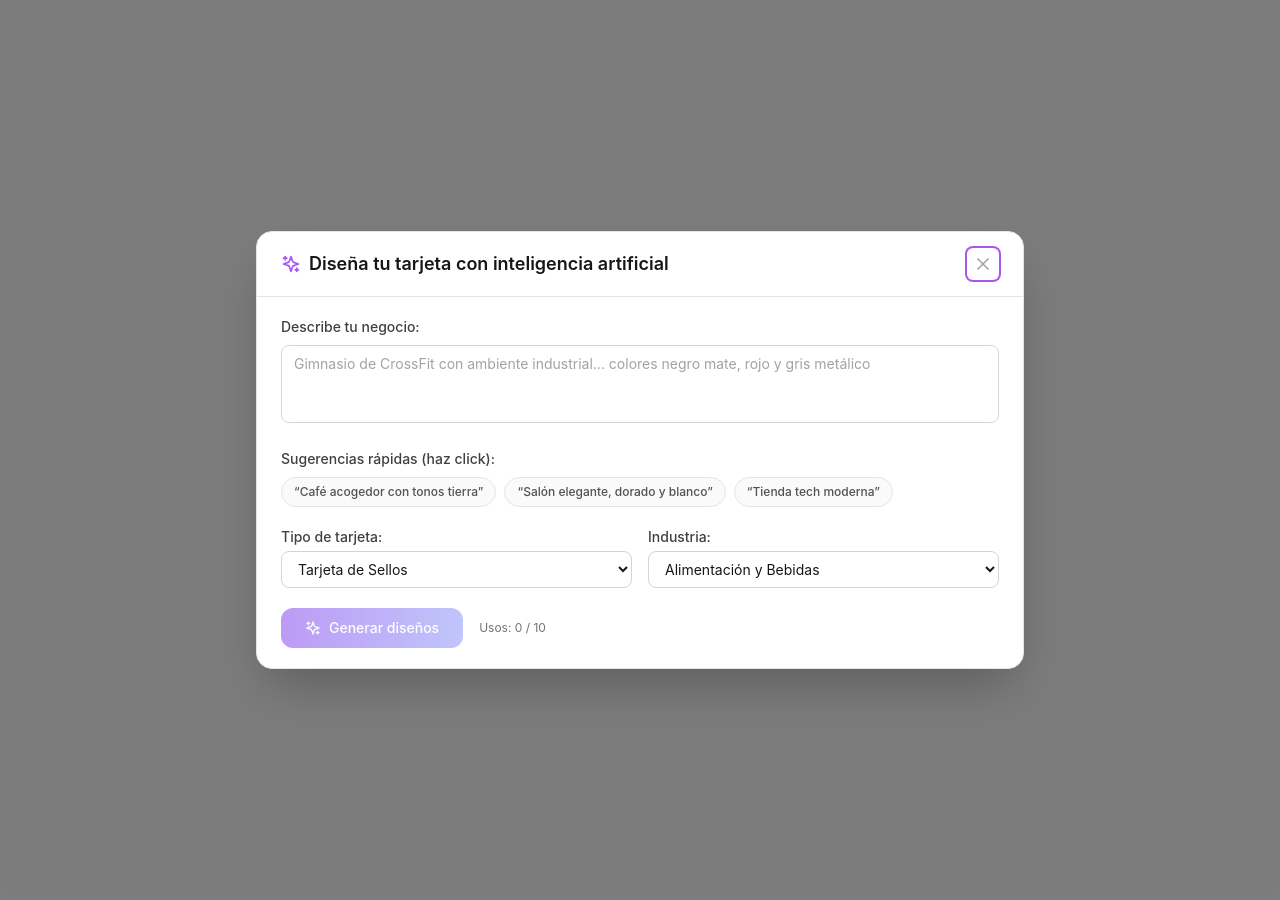
Scenario: AIChatModal › clicking suggestion fills textarea
Step 1. Click the button "“Café acogedor con tonos tierra”" → {"x": 389, "y": 492}, box [281, 477, 496, 507]
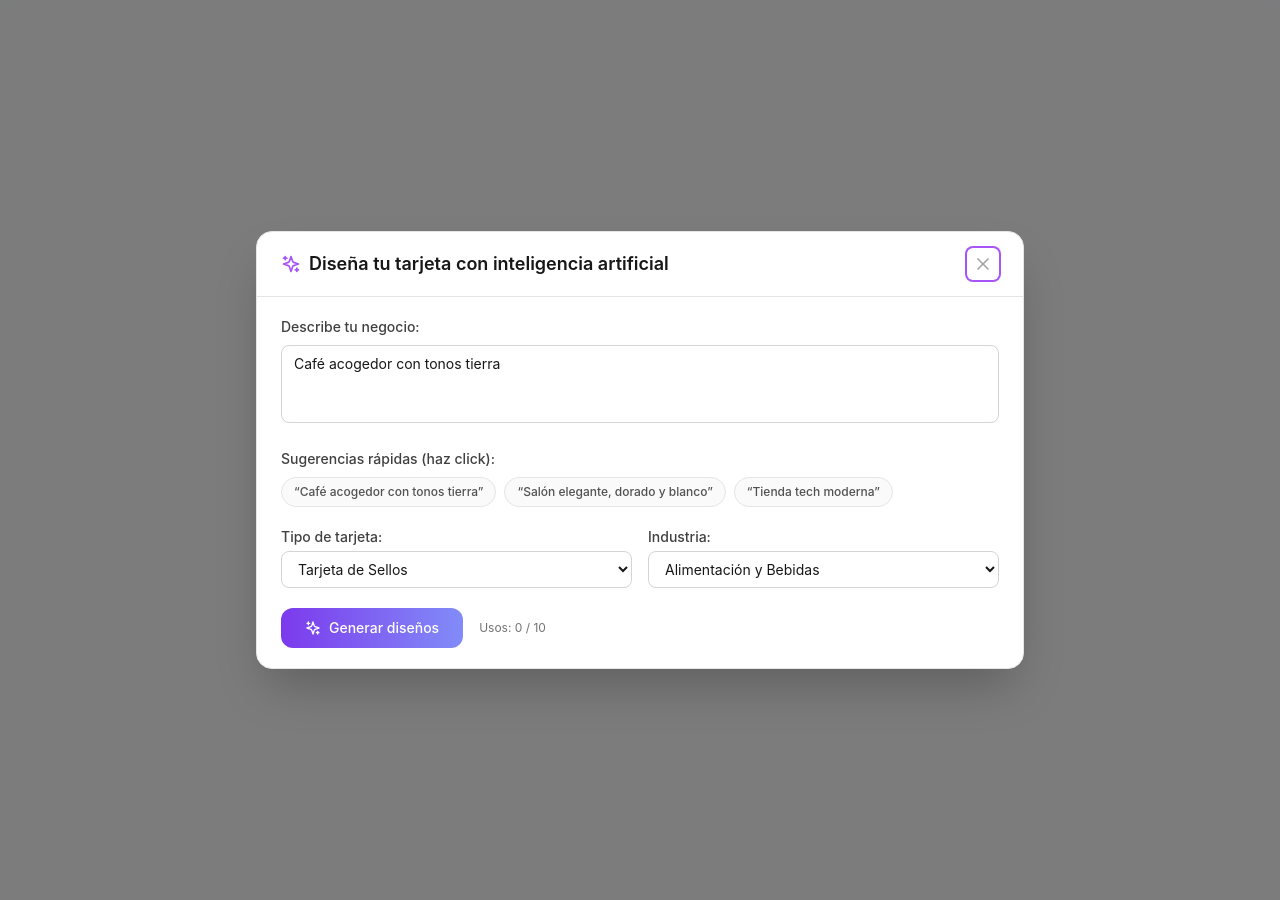
Expected: the text box labelled "Describe tu negocio:" holds "Café acogedor con tonos tierra", [281, 345, 999, 423]
